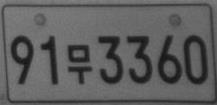0: (183, 33, 208, 86)
1: (38, 35, 63, 85)
3: (125, 34, 153, 84), (97, 34, 123, 84)
6: (156, 33, 182, 85)
9: (10, 34, 34, 84)
무: (66, 43, 92, 85)
